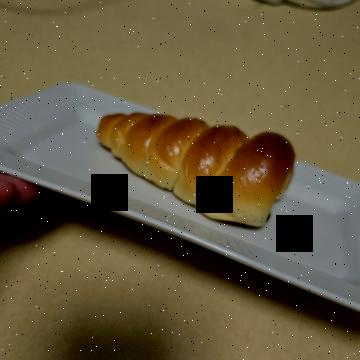cream horn: (89, 66, 240, 296)
